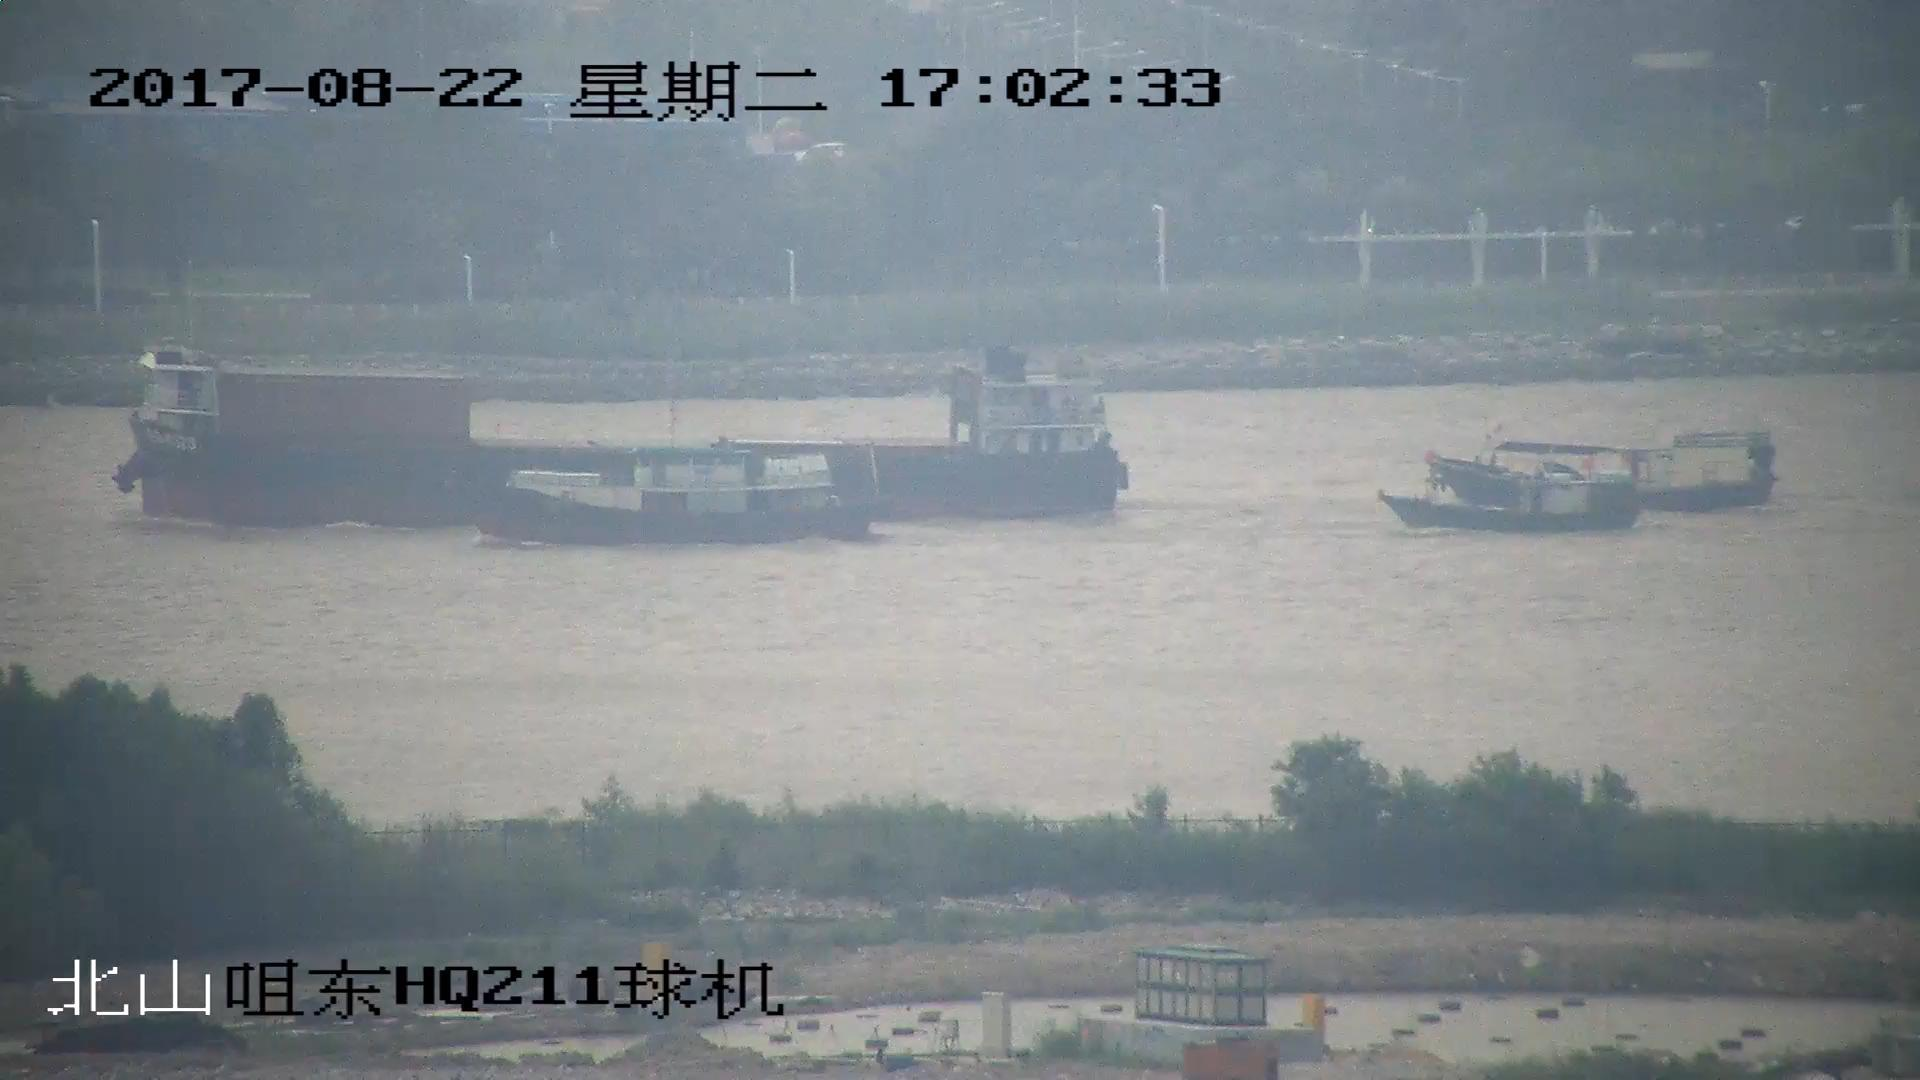Ship: (111, 328, 1130, 521), (479, 444, 881, 549), (1428, 421, 1779, 506), (1381, 464, 1636, 531)
